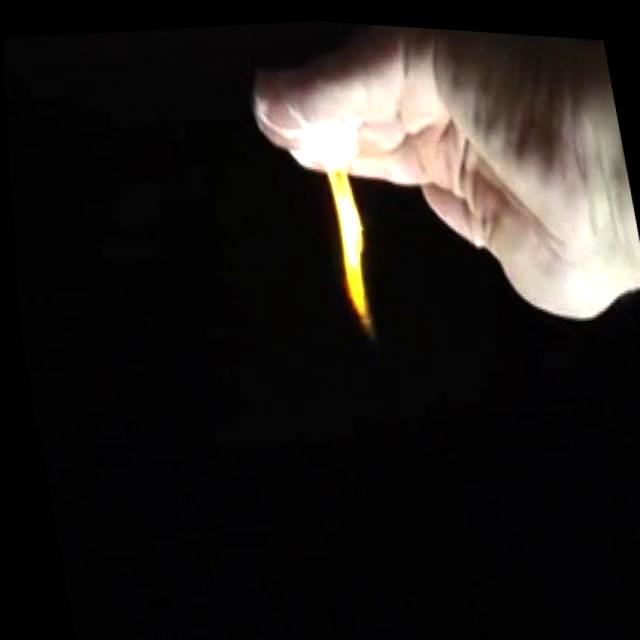fire: (311, 106, 369, 234)
